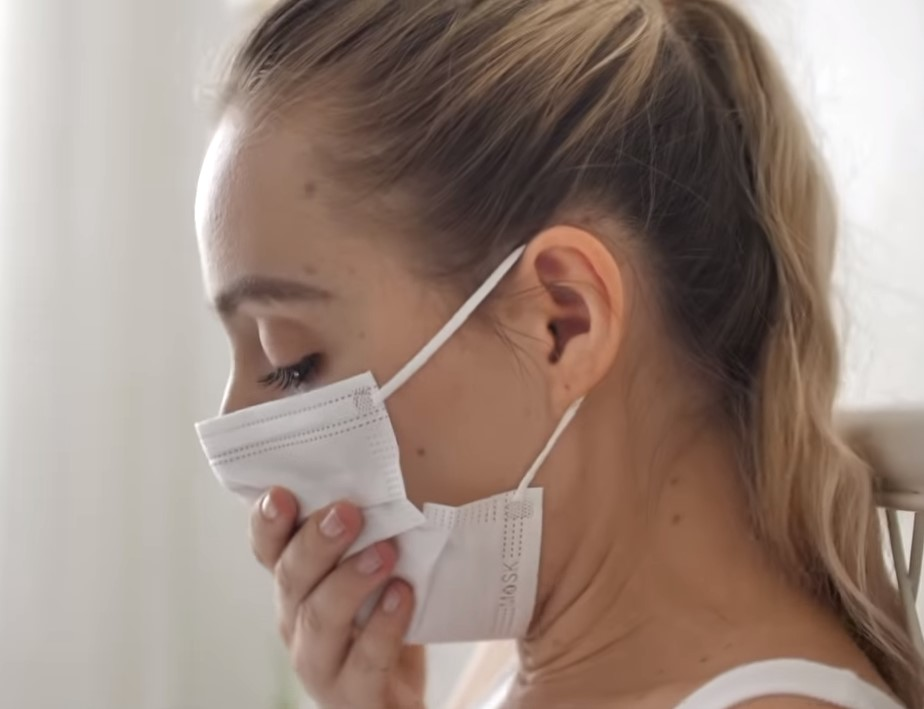face_with_mask: (191, 8, 719, 655)
